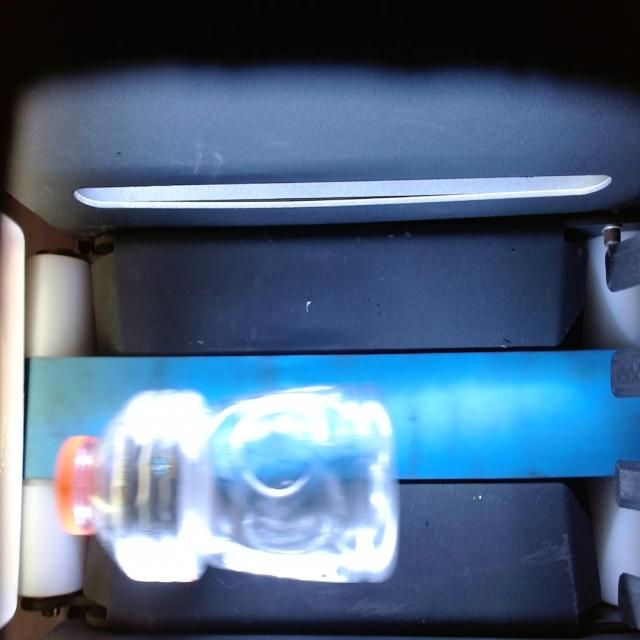bottom: (210, 387, 399, 582)
cap: (54, 436, 86, 536)
label: (111, 391, 201, 582)
neck: (52, 436, 99, 536), (90, 427, 121, 553)
